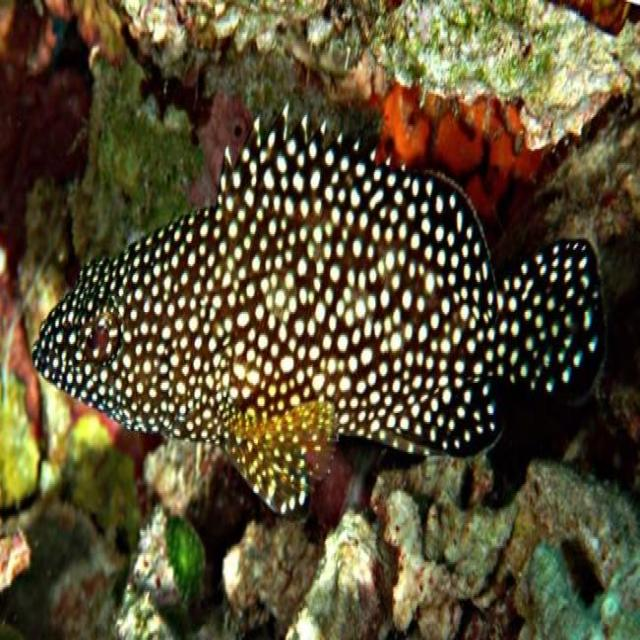ikan: (29, 92, 606, 520)
